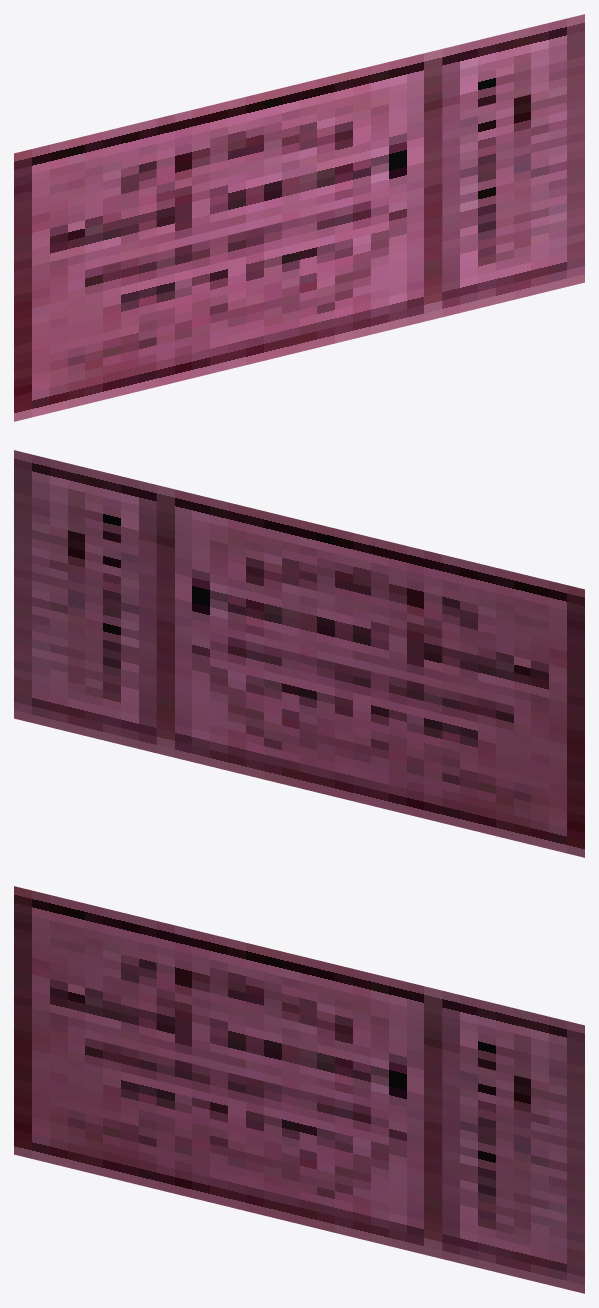
Rendered from FunFair_Ticket.FBX.
3 views of the same model, one above another, from view 1: azimuth 30°, elevation 25°; view 2: azimuth 150°, elevation 25°; view 3: azimuth 330°, elevation 25° (orthographic).
Visible parts, largest first — view 1: Plane01; view 2: Plane01; view 3: Plane01.
Boxes of the visible parts, bbox=[...] form: Plane01: bbox=[14, 14, 584, 421]; Plane01: bbox=[14, 450, 584, 857]; Plane01: bbox=[14, 886, 584, 1293].
Bounding box in the file's own units: 76.36 × 34.3 × 8.18e-06.
